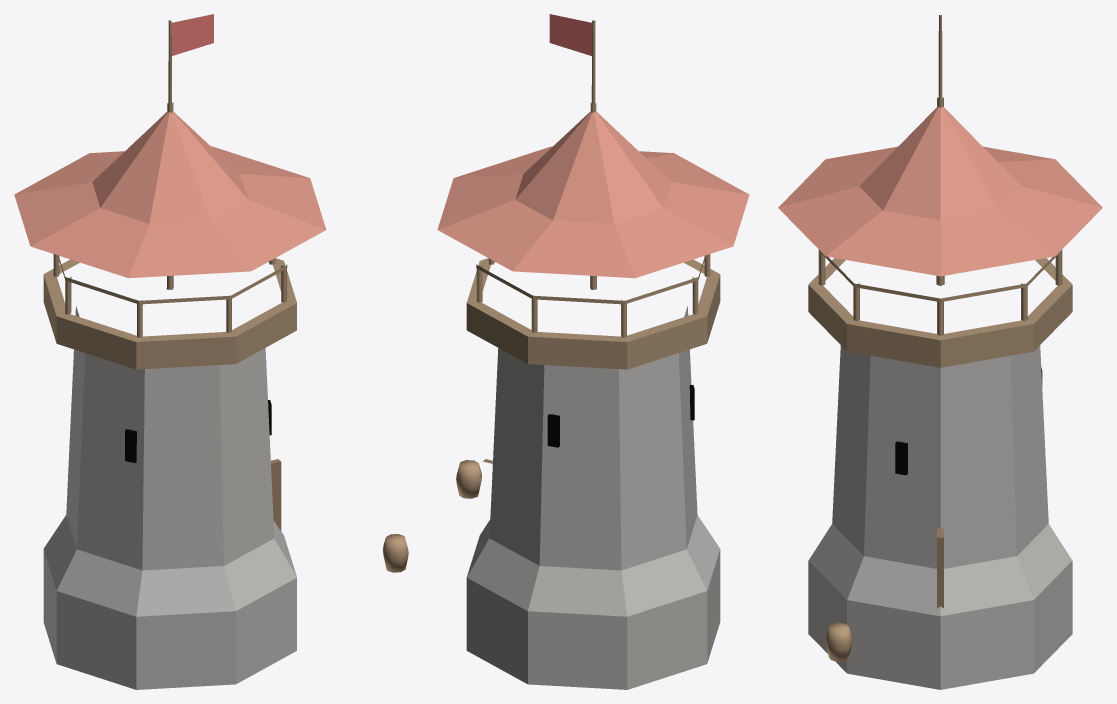
Rendered from struct_10_3.glb.
The picture shows the model from 3 angles, left to right: view 1: azimuth 30°, elevation 25°; view 2: azimuth 150°, elevation 25°; view 3: azimuth 270°, elevation 25°; orthographic projection.
Parts seen in each view (by area): view 1: Landmarks; view 2: Landmarks; view 3: Landmarks.
Boxes of the visible parts, bbox=[...] form: Landmarks: bbox=[14, 14, 408, 689]; Landmarks: bbox=[437, 14, 749, 689]; Landmarks: bbox=[778, 15, 1102, 689].
Size of the model in its own units: 11.2 by 20.2 by 9.6.
